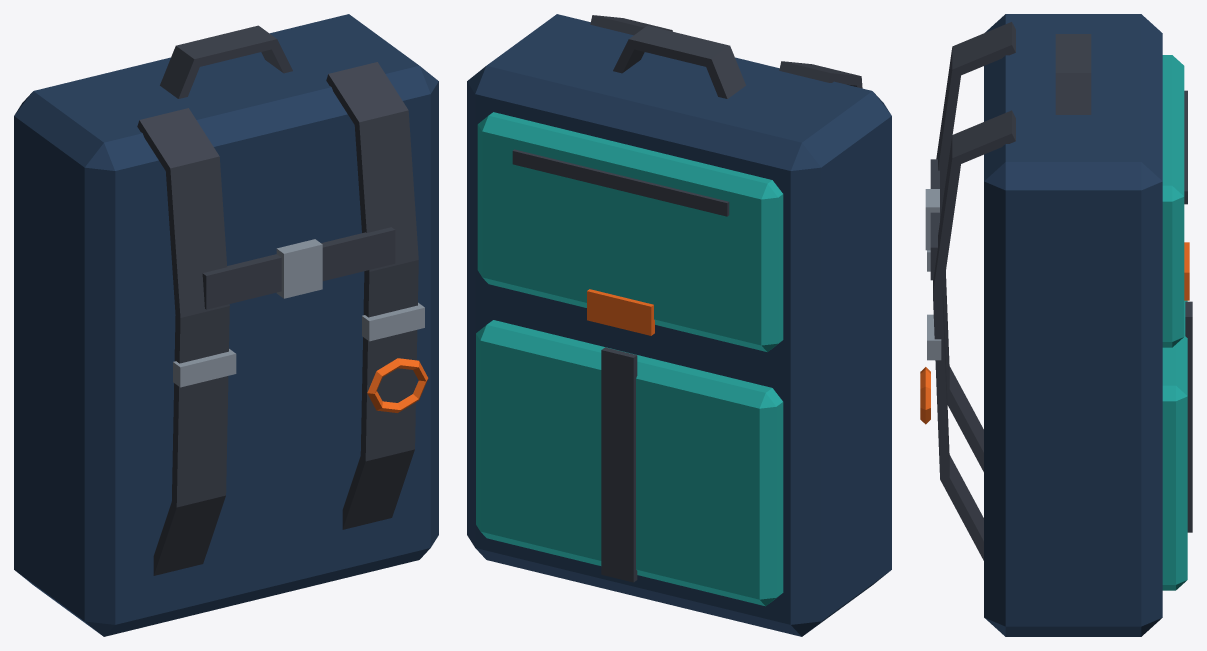
The model's file is parachute_pack.glb.
The picture shows the model from 3 angles, left to right: view 1: azimuth 30°, elevation 25°; view 2: azimuth 150°, elevation 25°; view 3: azimuth 270°, elevation 25°; orthographic projection. The views are drawn at different scales.
Parts seen in each view (by area): view 1: Body; view 2: Body; view 3: Body.
Part boxes in pixels (x1=…): Body: x1=14, y1=14, x2=438, y2=636; Body: x1=467, y1=14, x2=891, y2=636; Body: x1=920, y1=14, x2=1192, y2=636.
Size of the model in its own units: 0.33 by 0.472 by 0.2285.
